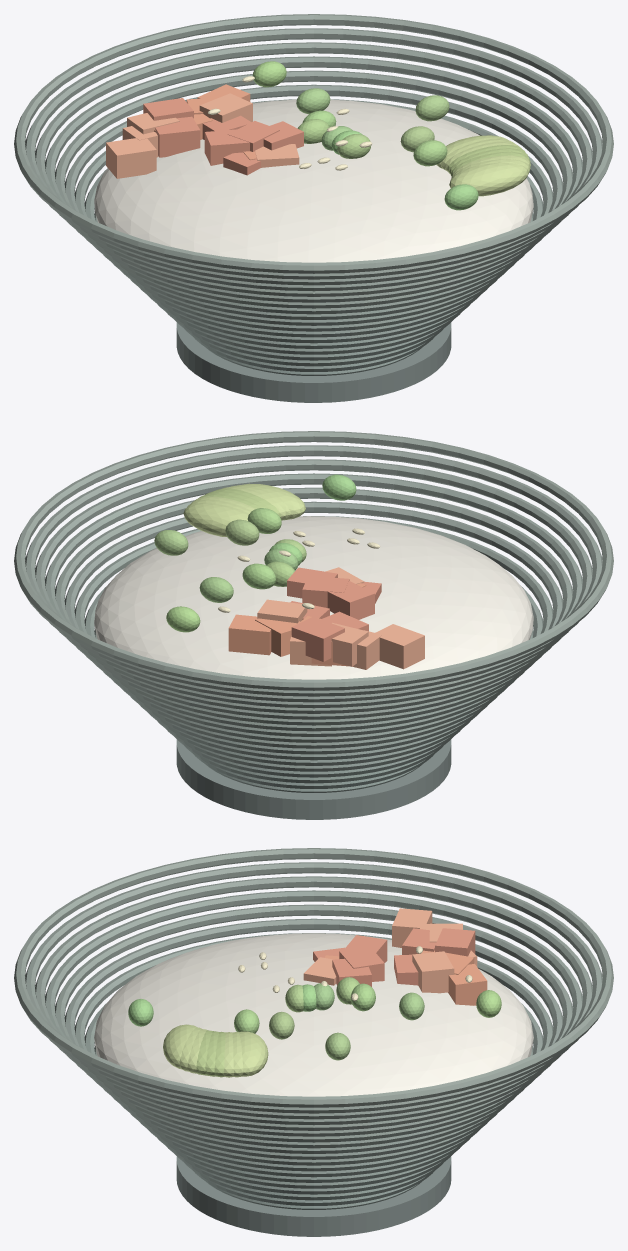
File: poke.glb
3 views of the same model, one above another, from view 1: azimuth 30°, elevation 25°; view 2: azimuth 150°, elevation 25°; view 3: azimuth 270°, elevation 25° (orthographic).
Parts seen in each view (by area): view 1: part-22, part-21, part-20, part-19, part-18, part-17, part-1, part-16, part-15, part-14, part-13, part-12 (+28 smaller); view 2: part-22, part-21, part-20, part-19, part-18, part-1, part-17, part-16, part-15, part-14, part-13, part-12 (+28 smaller); view 3: part-22, part-21, part-20, part-19, part-18, part-17, part-16, part-1, part-15, part-14, part-13, part-12 (+27 smaller).
Boxes of the visible parts, x1,y1,x2,y2 form: part-22: (94,99,533,262); part-21: (14,14,613,273); part-20: (25,28,602,279); part-19: (35,42,592,285); part-18: (45,56,582,291); part-17: (55,70,572,296); part-1: (176,322,451,402); part-16: (64,84,563,302); part-15: (74,99,553,308); part-14: (84,168,543,314); part-13: (94,212,533,319); part-12: (120,270,507,325); part-22: (94,516,533,679); part-21: (14,431,613,690); part-20: (25,445,602,696); part-19: (35,459,592,702); part-18: (45,473,582,708); part-1: (176,739,451,819); part-17: (55,487,572,713); part-16: (64,501,563,719); part-15: (74,516,553,725); part-14: (84,585,543,731); part-13: (94,629,533,736); part-12: (120,687,507,742); part-22: (94,933,533,1096); part-21: (14,848,613,1107); part-20: (25,862,602,1113); part-19: (35,876,592,1119); part-18: (45,890,582,1125); part-17: (55,904,572,1130); part-16: (64,918,563,1136); part-1: (176,1157,451,1236); part-15: (74,933,553,1142); part-14: (84,1003,543,1148); part-13: (94,1046,533,1153); part-12: (121,1105,506,1159).
Bounding box in the file's own units: 0.3274 × 0.1255 × 0.3274.
